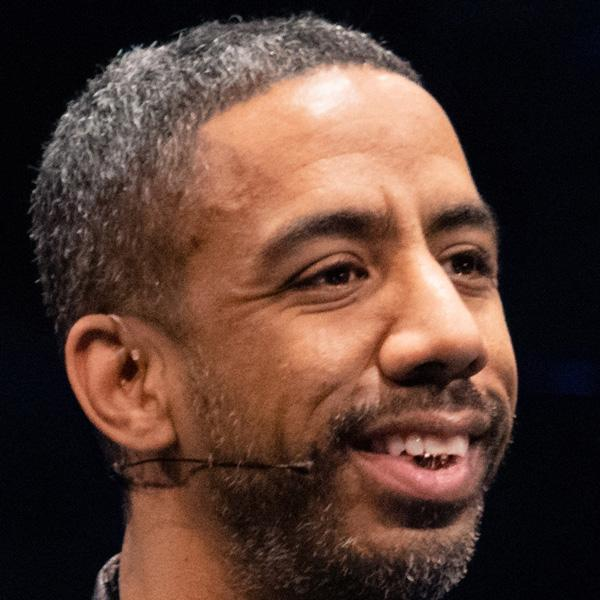Eyes: (278, 244, 379, 308), (425, 234, 499, 294)
